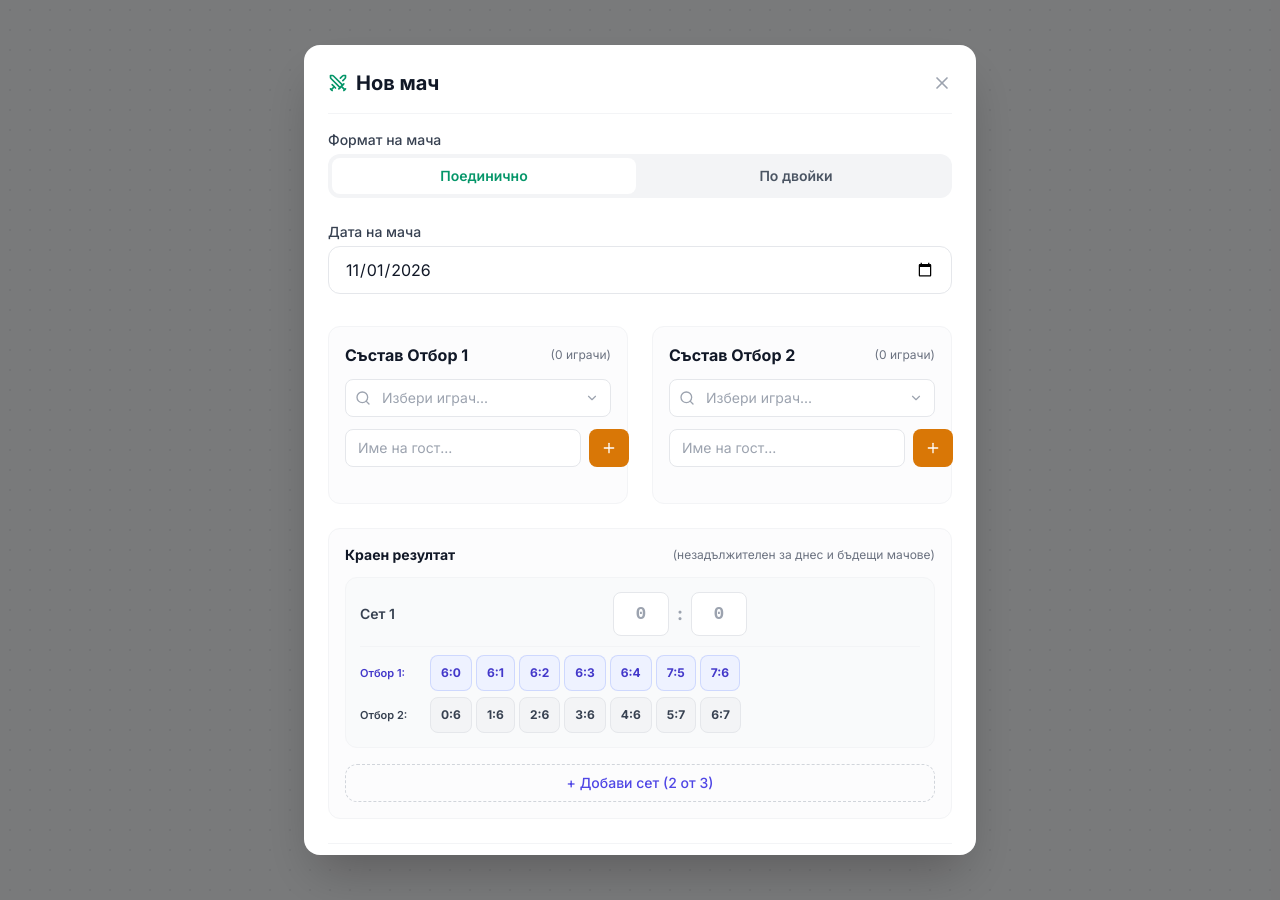
Test: MatchModal Component › Roster Capacity Enforcement & Locking Status Pill › Singles: locks Team 1 with "Пълен състав (1/1)" pill and hides combobox when 1 player added
Expected: the field named "Име на гост за Отбор 1" is shown, [345,429,581,467]
Note: Add 1 player
Click the dropdown named "Избери играч за Отбор 1". click: (478, 398)
box: [345,379,611,417]
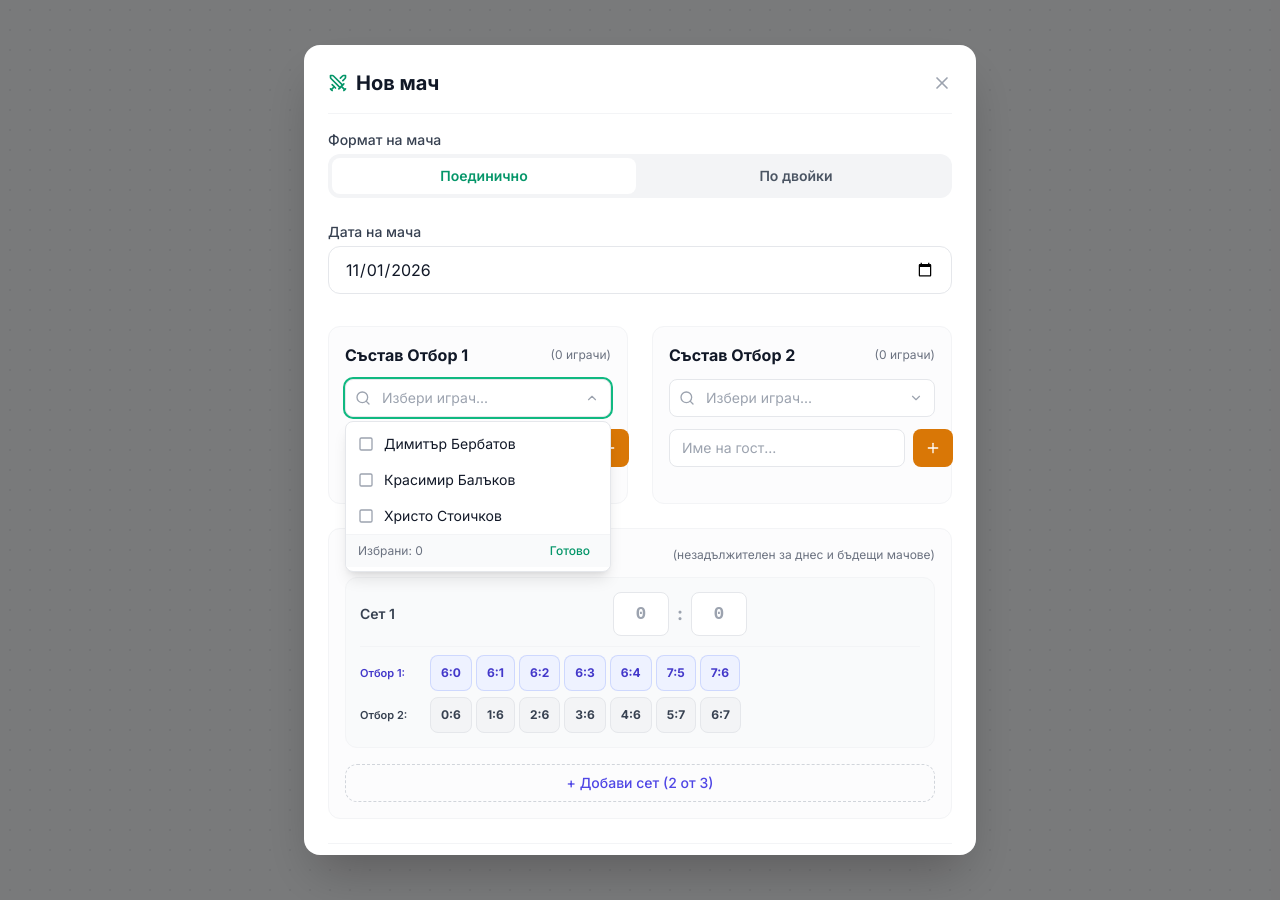
Click the option "Христо Стоичков". click: (478, 516)
box: [346,498,610,534]
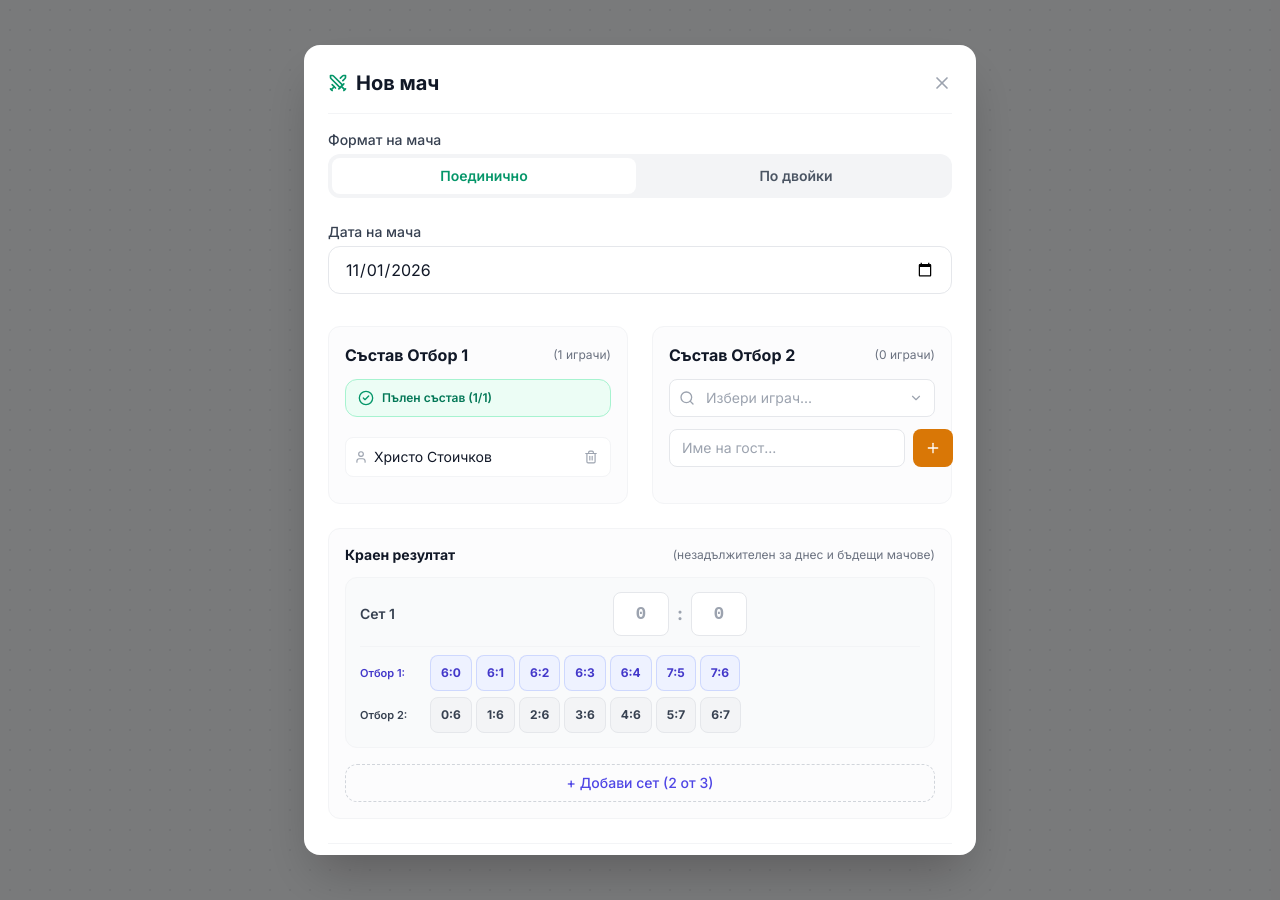
Now the text "Пълен състав (1/1)" is shown, box [382,390,492,406]
